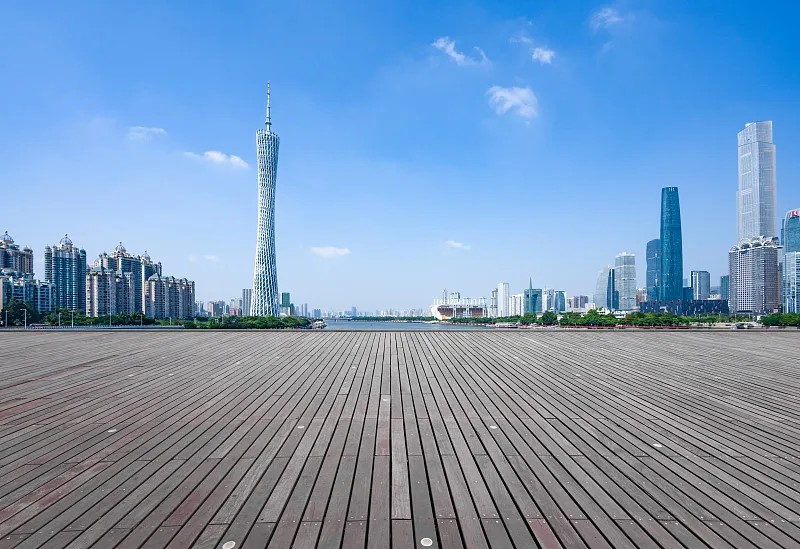Canton: (248, 80, 280, 317)
